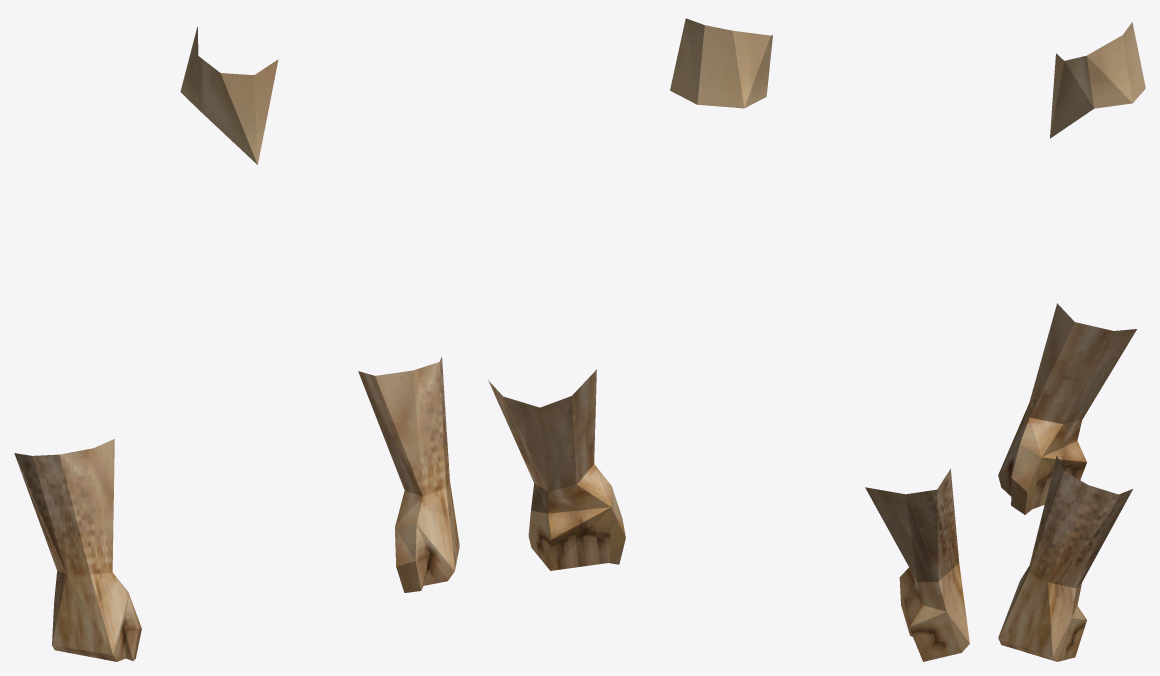
File: Armor_Governor.glb
3 views of the same model, side by side, from view 1: azimuth 30°, elevation 25°; view 2: azimuth 150°, elevation 25°; view 3: azimuth 270°, elevation 25° (orthographic). The views are drawn at different scales.
Parts seen in each view (by area): view 1: Armor_Governorzm_Body; view 2: Armor_Governorzm_Body; view 3: Armor_Governorzm_Body.
Part boxes in pixels (<box>): Armor_Governorzm_Body: <box>14,26,459,661</box>; Armor_Governorzm_Body: <box>488,18,969,661</box>; Armor_Governorzm_Body: <box>998,22,1145,661</box>.
Size of the model in its own units: 0.686 by 0.9022 by 0.2166.
Materials: 1 (1 with a texture image).
